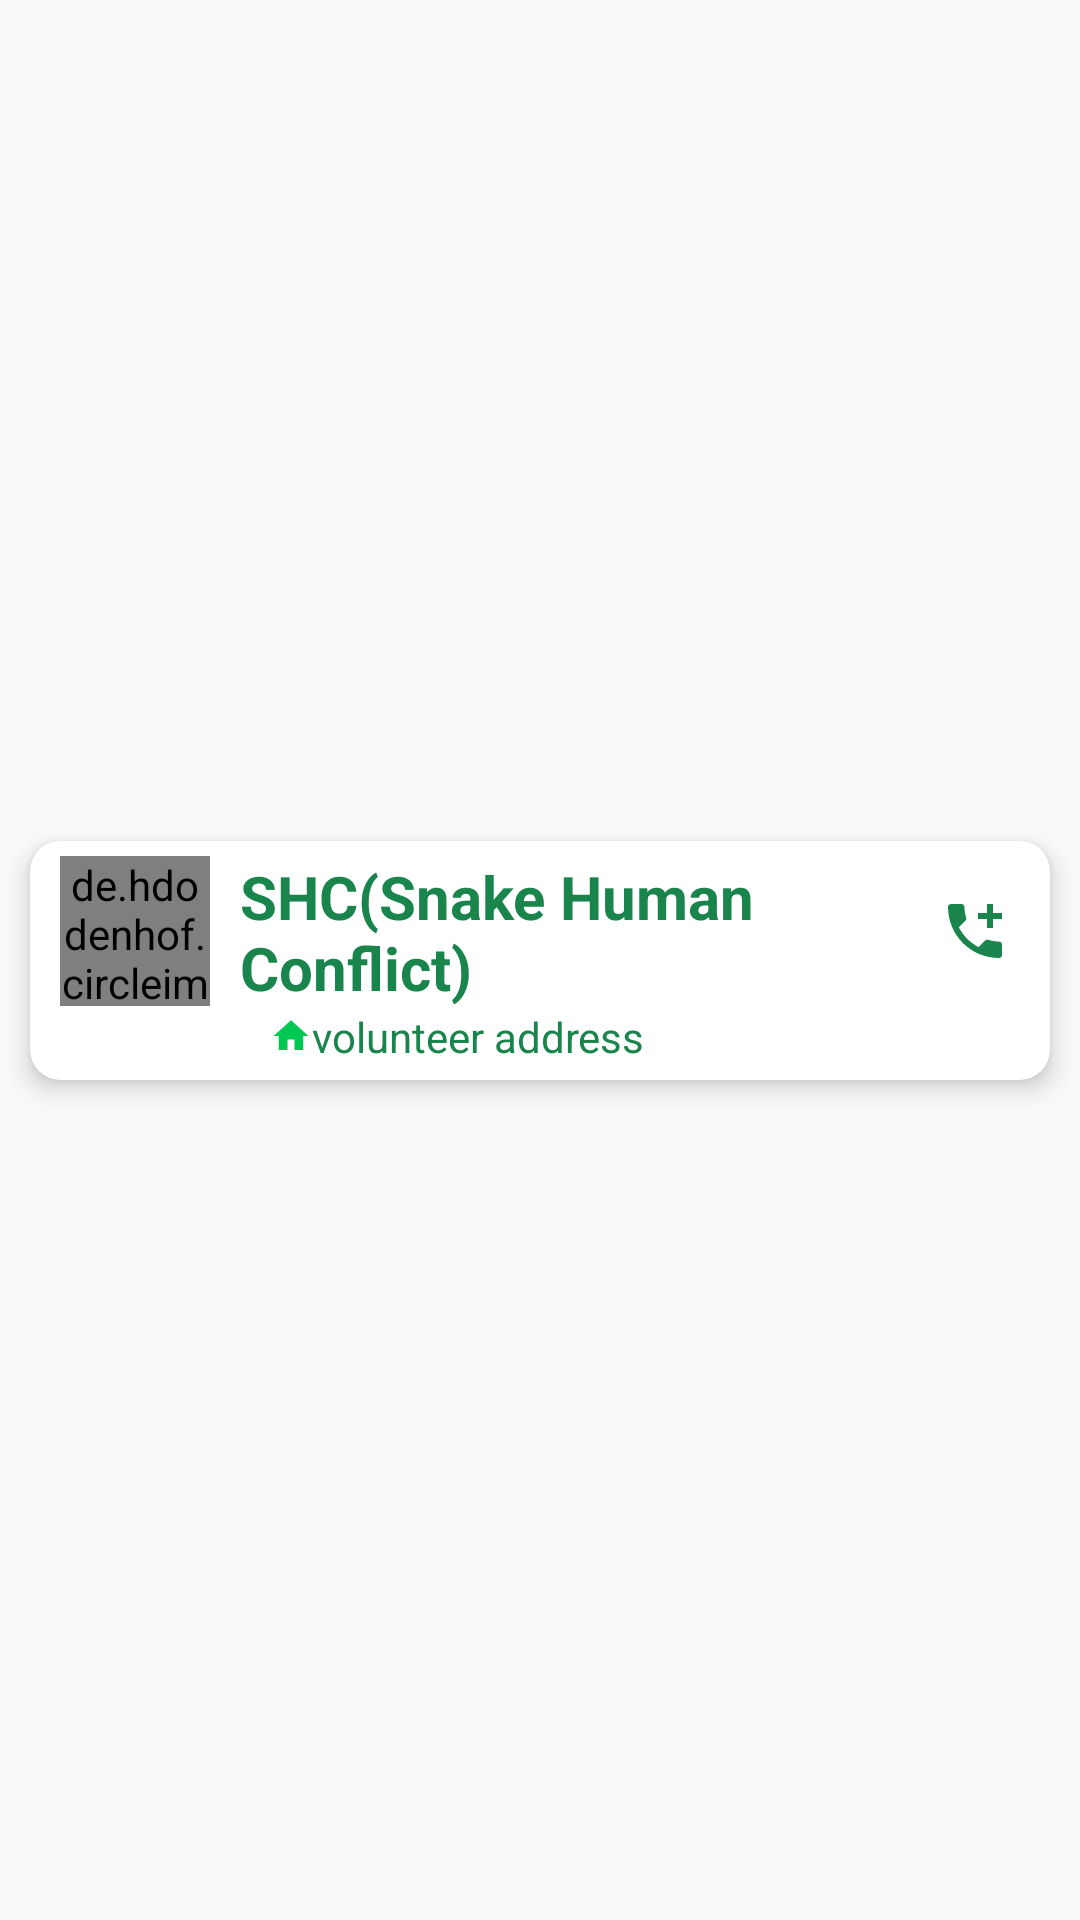

Where to tap for icons on this 1080x1920 app screen, as point (x, y):
add call: point (975, 931)
